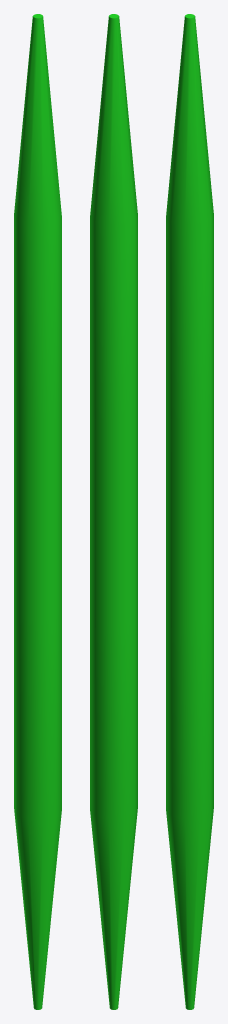
The model's file is LongLaser_B.obj.
3 renders of one model, left to right at view 1: azimuth 30°, elevation 25°; view 2: azimuth 150°, elevation 25°; view 3: azimuth 330°, elevation 25°, orthographic.
Parts seen in each view (by area): view 1: cylinder; view 2: cylinder; view 3: cylinder.
Part boxes in pixels (x1,y1,x2,y2): cylinder: (14, 14, 61, 1009); cylinder: (90, 14, 137, 1009); cylinder: (166, 14, 213, 1009).
Bounding box in the file's own units: 0.8876 × 20.24 × 0.8442.
